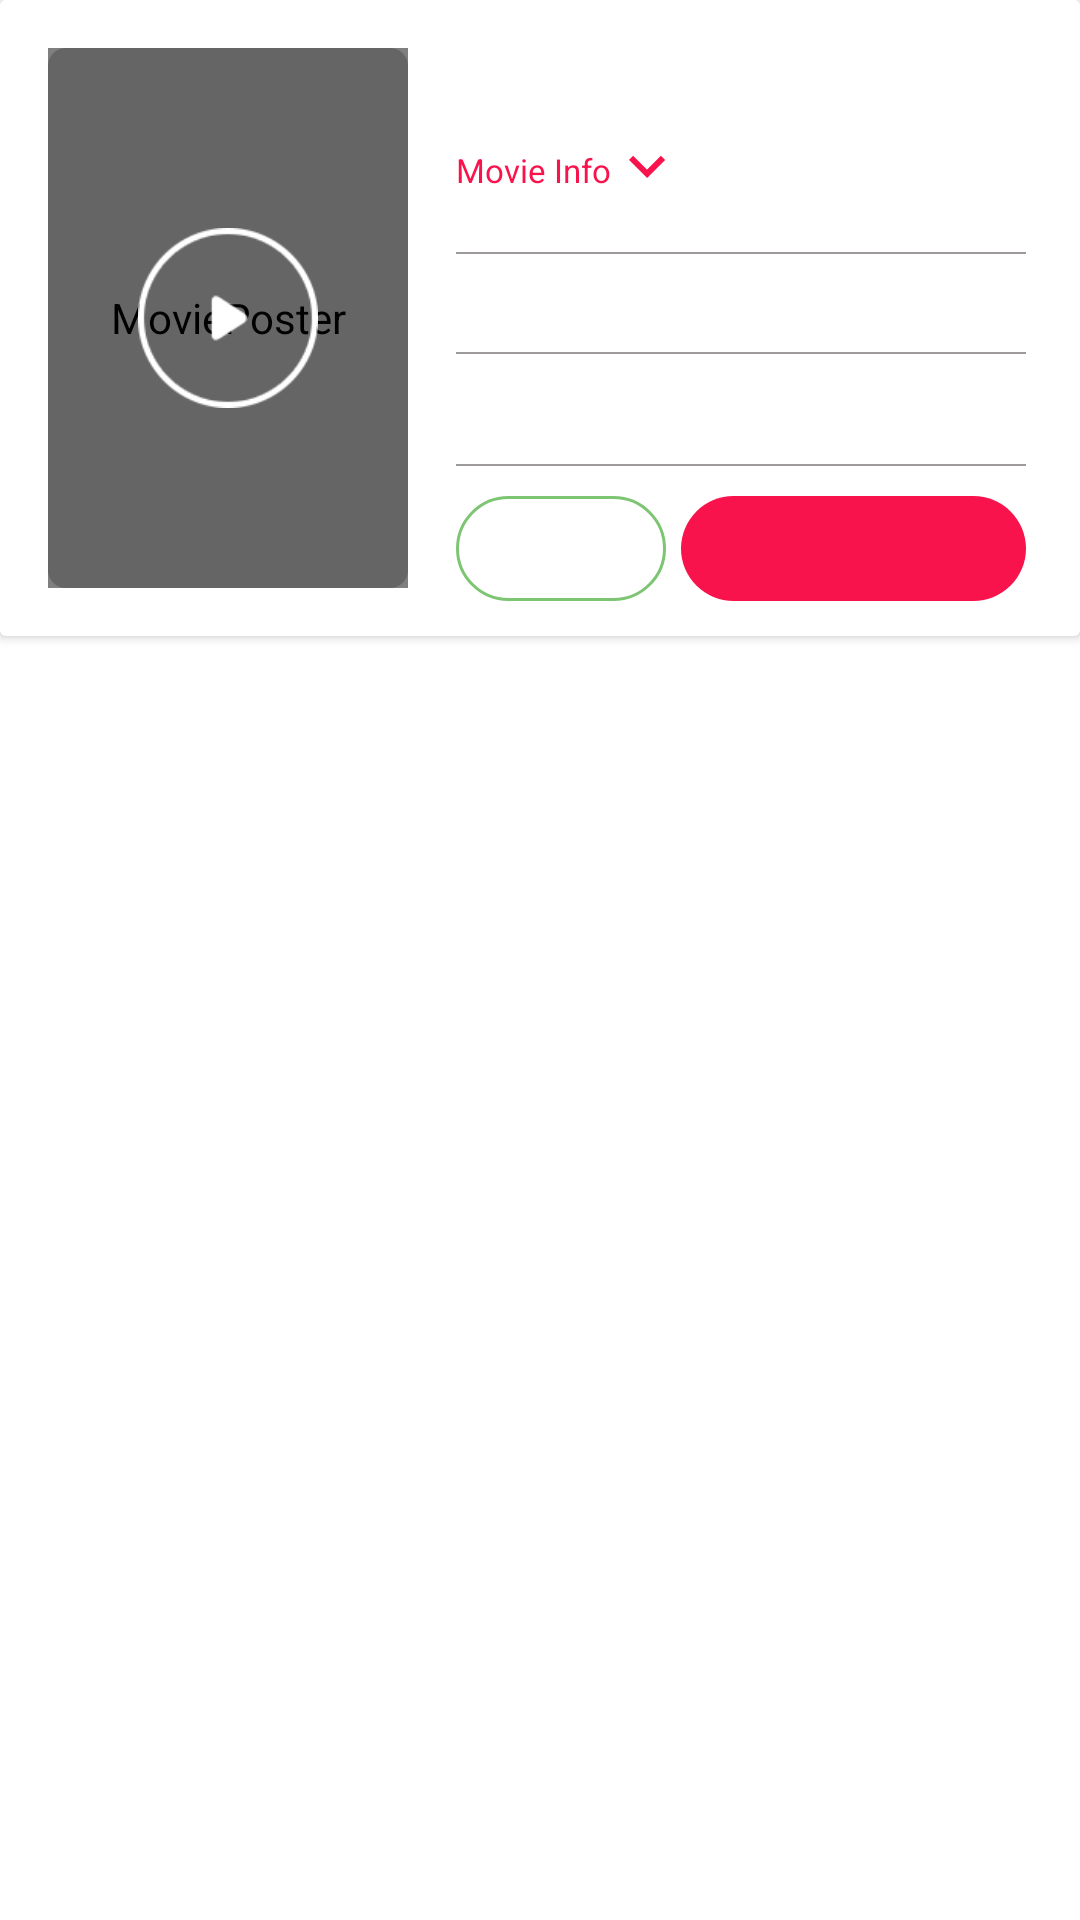

Icon click points for this 1080 × 1920 phone screenshot, format (x,y):
arrow: (647,167)
play trailer: (228,318)
